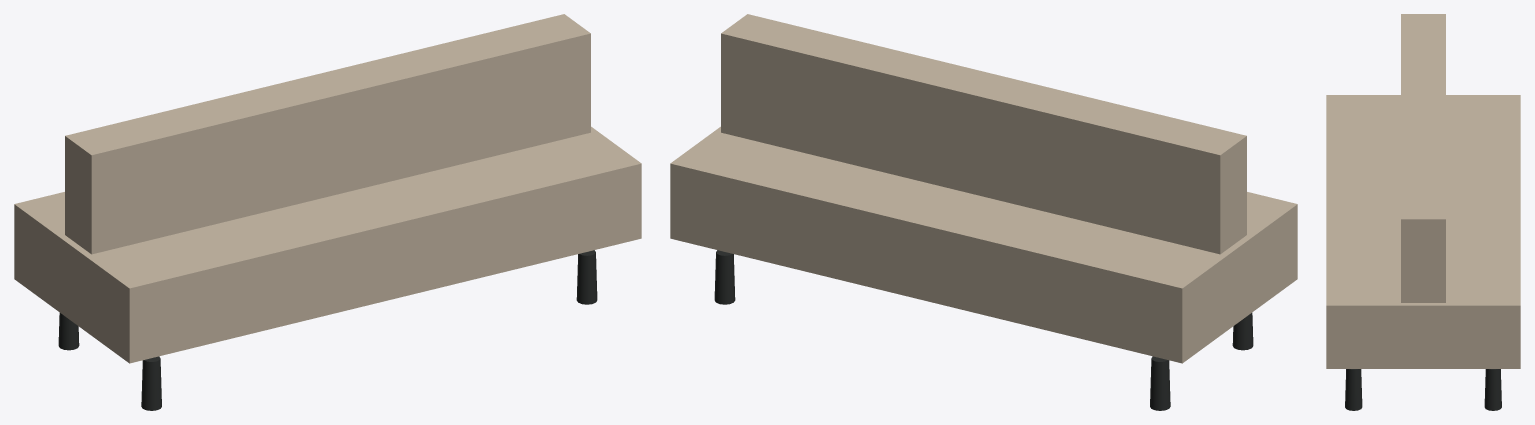
The model's file is sofa-3-seat.glb.
3 renders of one model, left to right at view 1: azimuth 30°, elevation 25°; view 2: azimuth 150°, elevation 25°; view 3: azimuth 270°, elevation 25°, orthographic. The views are drawn at different scales.
Visible parts, largest first — view 1: upholstery_body, upholstery_back, legs_bl, legs_br, legs_fl; view 2: upholstery_body, upholstery_back, legs_fl, legs_fr, legs_bl; view 3: upholstery_body, upholstery_back, legs_fr, legs_br.
Part boxes in pixels (x1=…): upholstery_body: x1=14, y1=126, x2=641, y2=363; upholstery_back: x1=65, y1=14, x2=590, y2=254; legs_bl: x1=141, y1=356, x2=161, y2=410; legs_br: x1=576, y1=250, x2=597, y2=304; legs_fl: x1=58, y1=313, x2=79, y2=350; upholstery_body: x1=670, y1=126, x2=1297, y2=363; upholstery_back: x1=721, y1=14, x2=1246, y2=254; legs_fl: x1=1150, y1=356, x2=1170, y2=410; legs_fr: x1=714, y1=250, x2=735, y2=304; legs_bl: x1=1232, y1=313, x2=1253, y2=350; upholstery_body: x1=1326, y1=95, x2=1520, y2=368; upholstery_back: x1=1401, y1=14, x2=1445, y2=302; legs_fr: x1=1484, y1=369, x2=1501, y2=410; legs_br: x1=1345, y1=369, x2=1362, y2=410.
Size of the model in its own units: 2 by 0.89 by 0.78.
